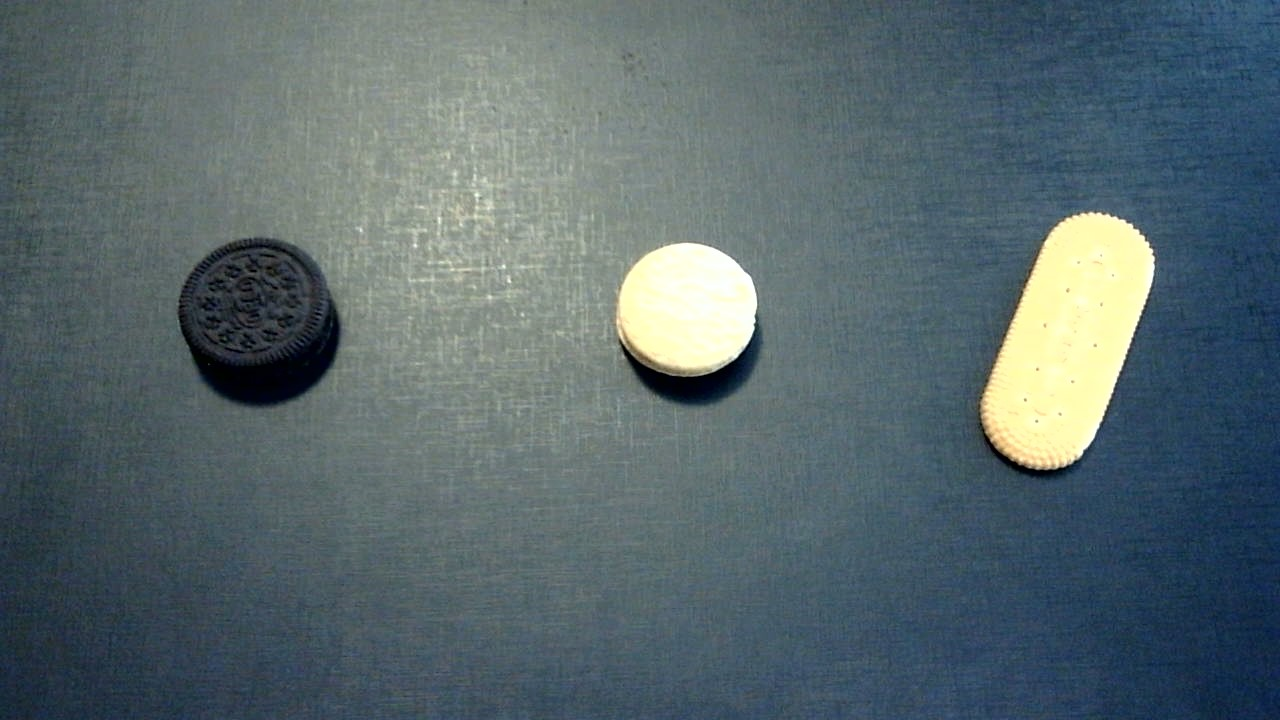lulu: (616, 241, 759, 378)
oreo: (177, 236, 334, 370)
solar: (979, 212, 1157, 470)
